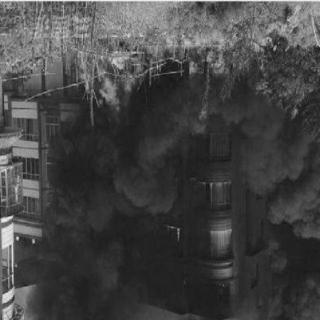Fire: (74, 43, 277, 115)
Smoke: (35, 106, 183, 310), (224, 90, 320, 312)
